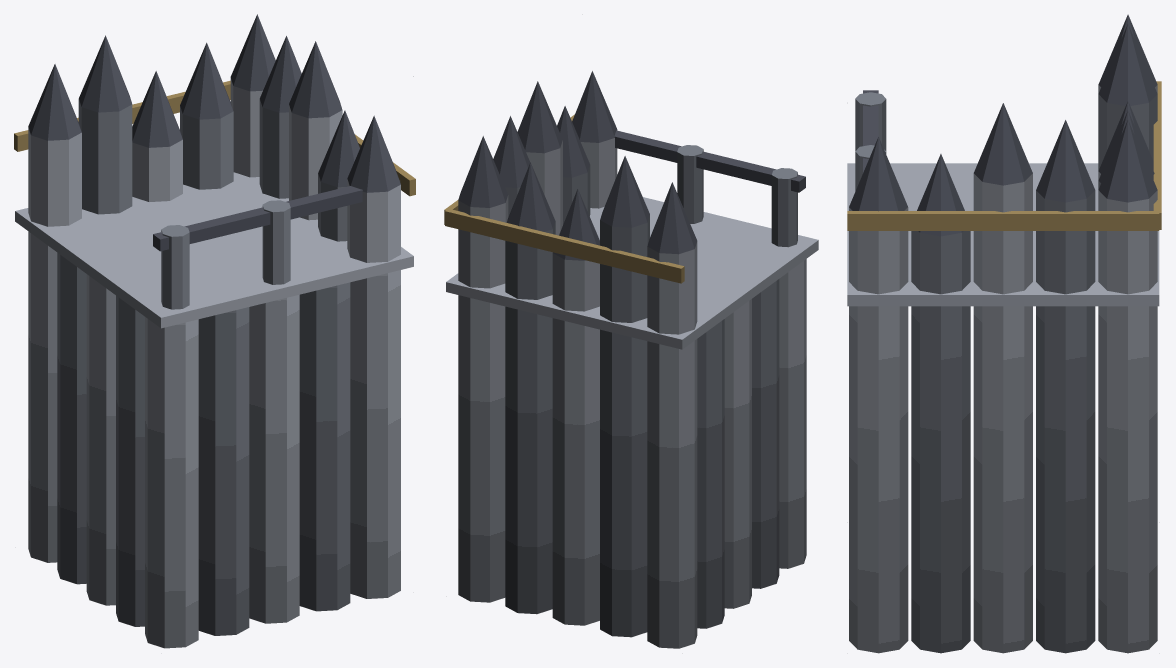
Rendered from perimeter_wall_metal_f8.glb.
The picture shows the model from 3 angles, left to right: view 1: azimuth 30°, elevation 25°; view 2: azimuth 150°, elevation 25°; view 3: azimuth 270°, elevation 25°; orthographic projection. The views are drawn at different scales.
Size of the model in its own units: 2.01 by 3.9 by 2.01.
1 material, 1 textured.
